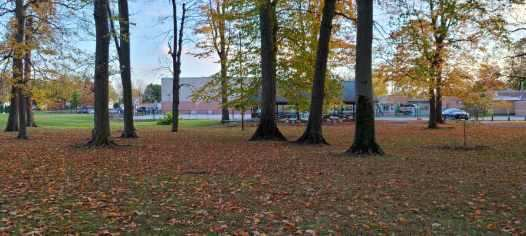tree: (344, 1, 385, 154), (299, 1, 335, 146), (252, 1, 286, 141), (114, 1, 141, 139), (88, 1, 113, 147), (423, 1, 443, 129), (213, 1, 231, 124), (4, 1, 18, 133), (168, 1, 182, 133), (18, 1, 29, 142), (26, 7, 36, 127)
